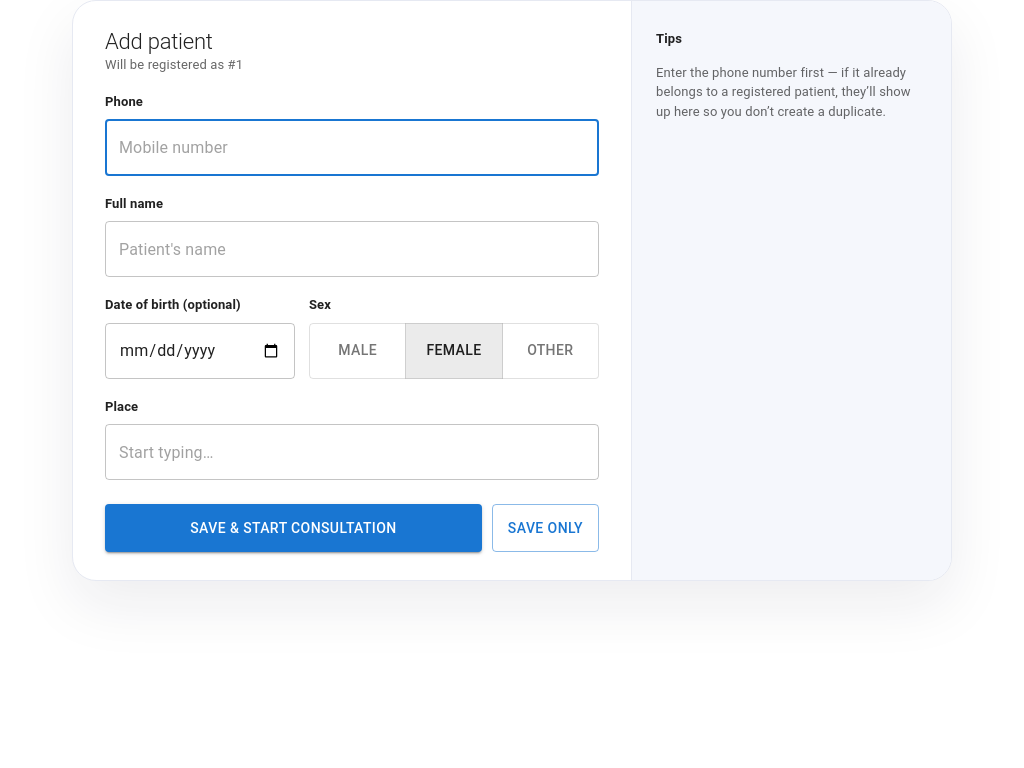
Test: PatientFormPage (create) › shows a validation error when name is empty
Type "2000-01-01" into the date field named "date of birth" at (200, 351), box [105,323,295,379]
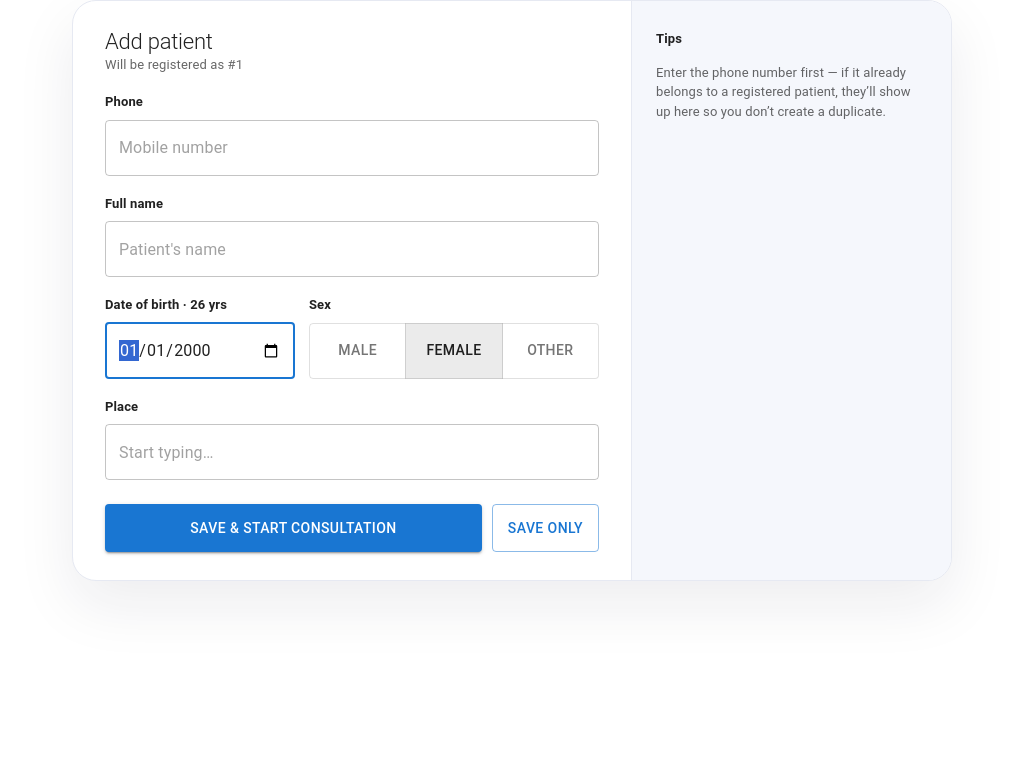
Click the button "Save only" at (545, 528), box [492,504,599,552]
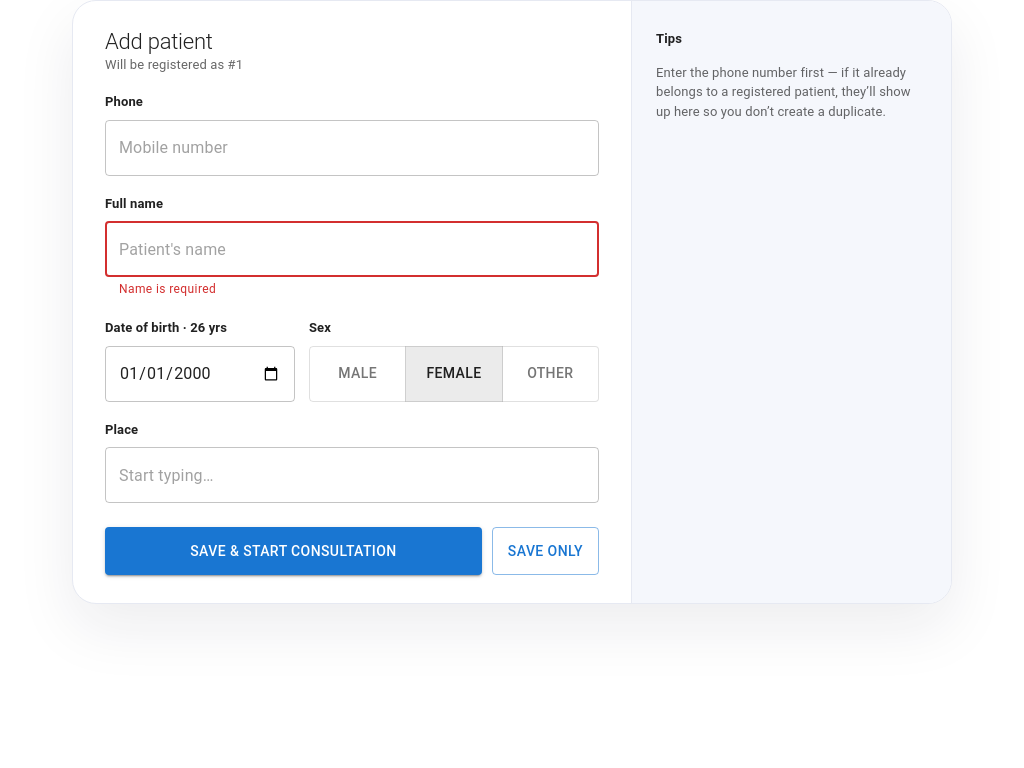
Now the text "Name is required" is shown, box [119,282,216,296]
